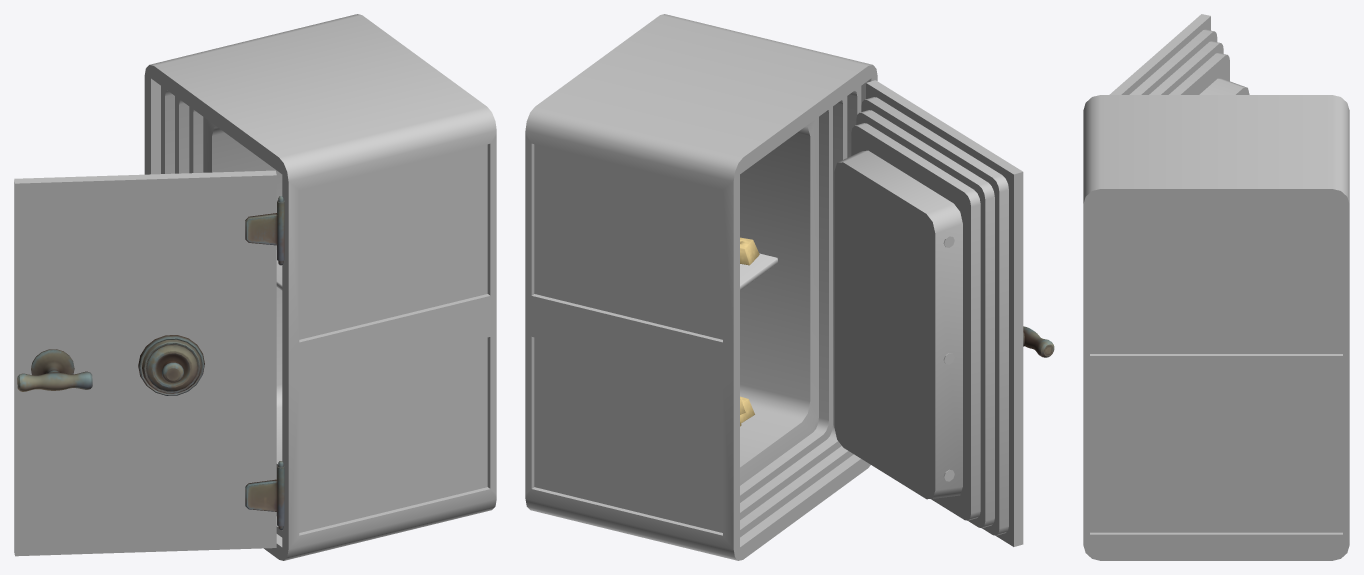
The picture shows the model from 3 angles, left to right: view 1: azimuth 30°, elevation 25°; view 2: azimuth 150°, elevation 25°; view 3: azimuth 270°, elevation 25°; orthographic projection. The views are drawn at different scales.
Visible parts, largest first — view 1: Safe_FINAL, Safe_Door_FINAL, Lockets_FINAL, Locker_FINAL, Locker_Base_FINAL, Handle_FINAL, Cylinders_Lockets_FINAL, Handle_Base_FINAL; view 2: Safe_FINAL, Safe_Door_FINAL, SafePlate_FINAL; view 3: Safe_FINAL, Safe_Door_FINAL.
Boxes of the visible parts, bbox=[...] form: Safe_FINAL: bbox=[144, 14, 496, 560]; Safe_Door_FINAL: bbox=[14, 170, 276, 556]; Lockets_FINAL: bbox=[245, 213, 277, 511]; Locker_FINAL: bbox=[146, 344, 197, 391]; Locker_Base_FINAL: bbox=[138, 335, 204, 395]; Handle_FINAL: bbox=[17, 371, 92, 391]; Cylinders_Lockets_FINAL: bbox=[277, 196, 284, 529]; Handle_Base_FINAL: bbox=[31, 349, 74, 375]; Safe_FINAL: bbox=[525, 14, 877, 560]; Safe_Door_FINAL: bbox=[834, 80, 1023, 546]; SafePlate_FINAL: bbox=[740, 253, 777, 290]; Safe_FINAL: bbox=[1083, 95, 1349, 560]; Safe_Door_FINAL: bbox=[1109, 14, 1249, 94].
Size of the model in its own units: 3.86 by 3.44 by 2.23.
